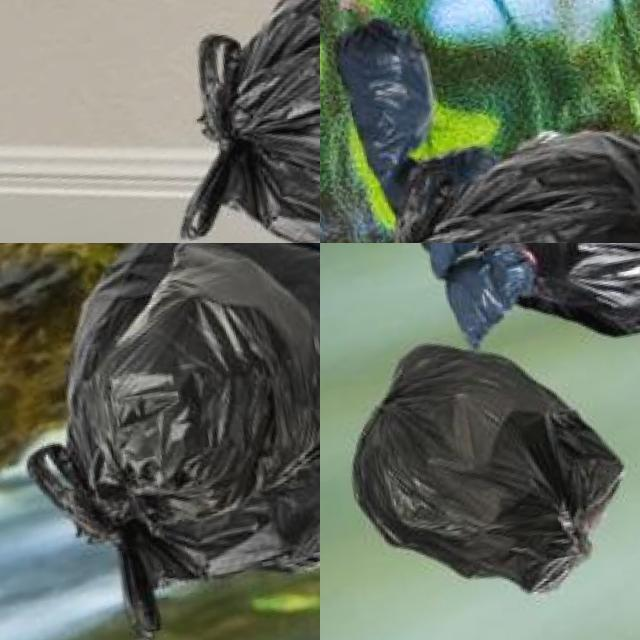waste: (10, 243, 320, 612), (330, 314, 640, 616), (138, 0, 320, 243), (344, 97, 640, 243), (320, 14, 487, 198)
